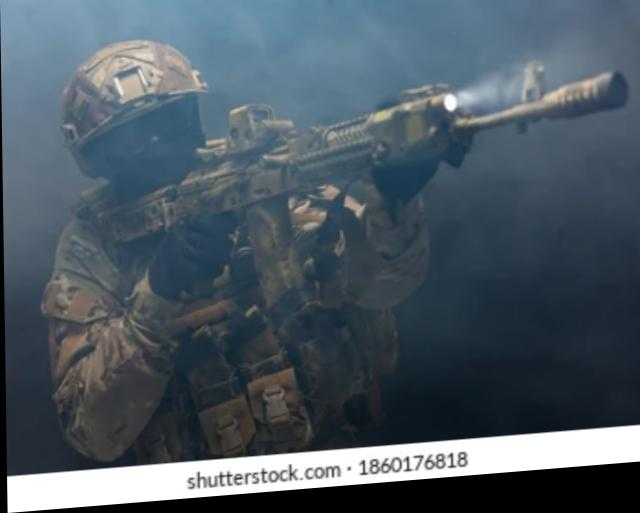other: (32, 36, 328, 467)
